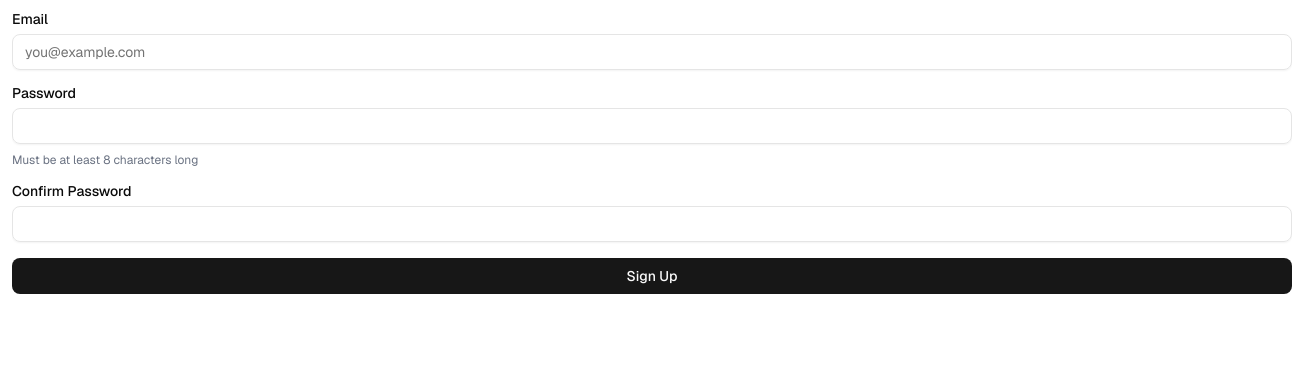
Scenario: SignUpForm › failed sign up › displays error message from result
In the password field labelled "Password": (652, 126) 12,108 -> 1292,144, type "password123"
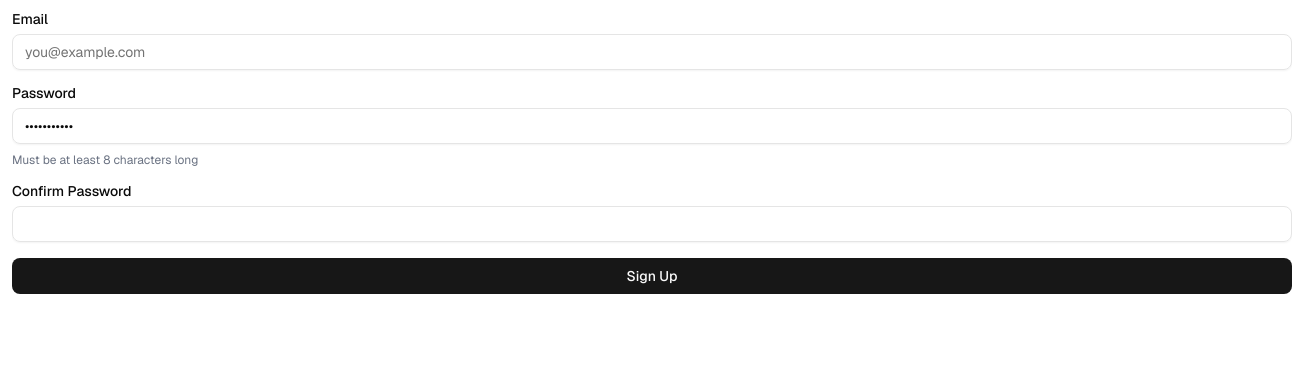
In the password field labelled "Confirm Password": (652, 224) 12,206 -> 1292,242, type "password123"
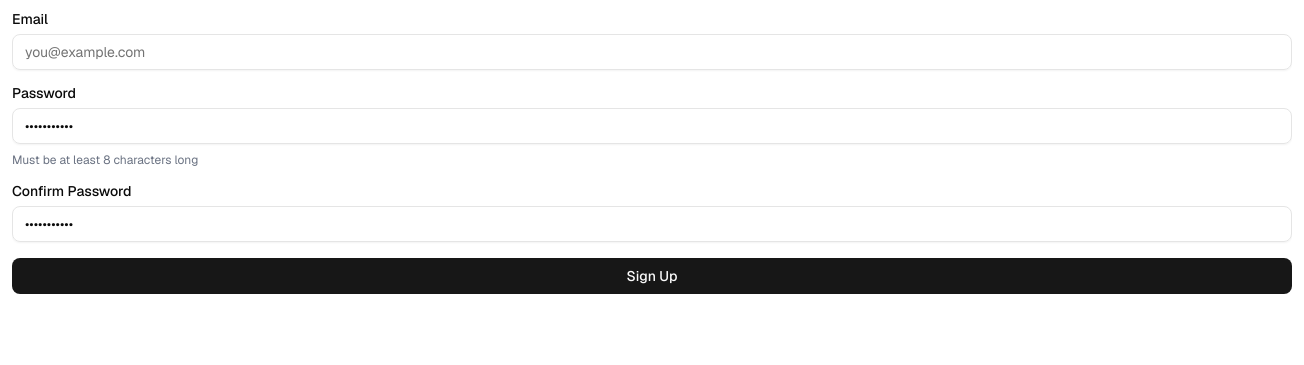
Submit the form from the button "Sign Up", box 12,258 -> 1292,294
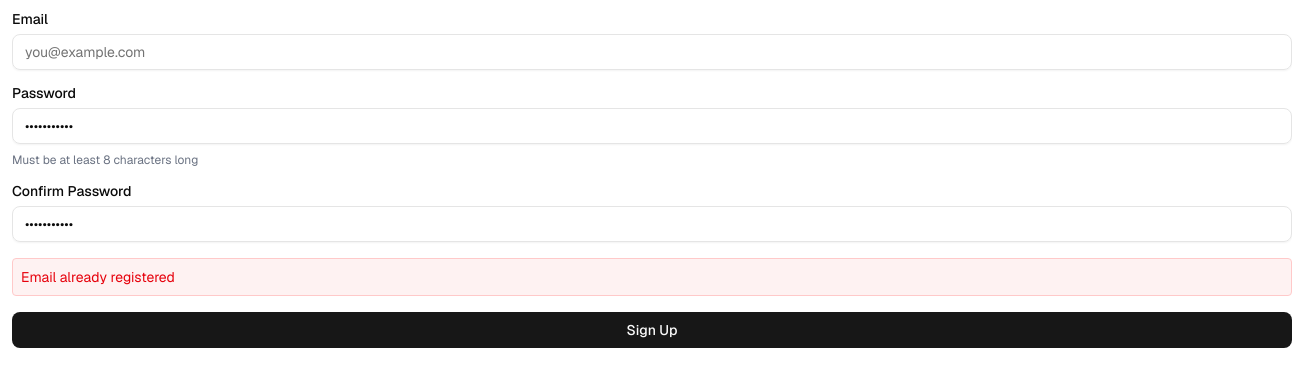
Check: the text "Email already registered" is shown, box 12,258 -> 1292,296
